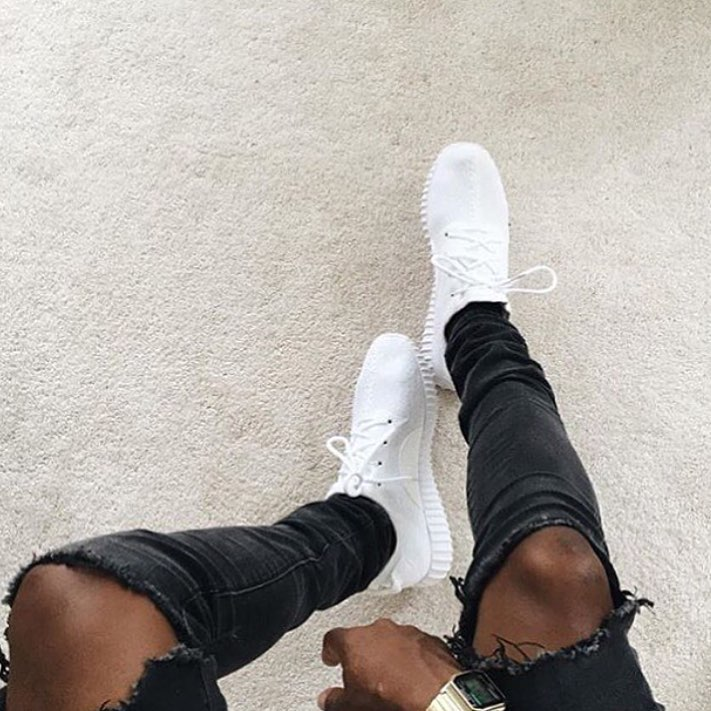sneaker: (303, 314, 466, 607), (397, 134, 566, 404)
